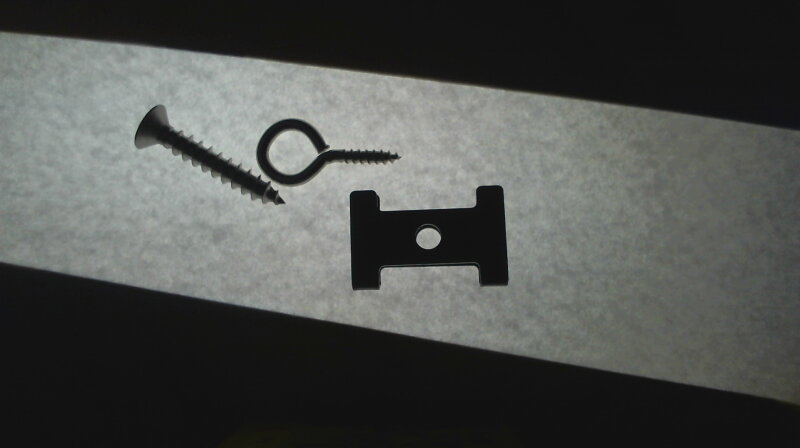O001: (252, 114, 404, 188)
O002: (344, 181, 512, 292)
S001: (130, 100, 290, 207)
